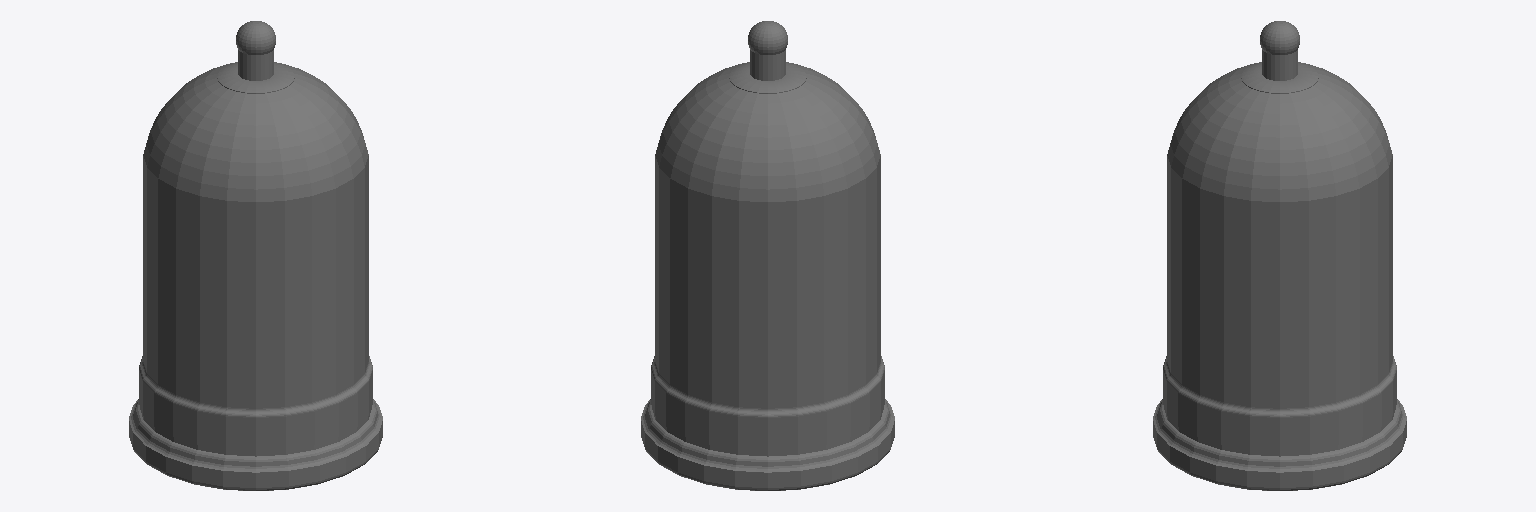
URDF robot description (object):
<?xml version="1.0"?>
<robot name="object">
  <link name="object">
    <visual>
      <origin xyz="0 0 0"/>
      <geometry>
        <mesh
          filename="../../mesh/oakink_virtual/cylinder_bottle_s598.stl" />
      </geometry>
      <material name="mat">
        <color rgba="0.5 0.5 0.5 1"/>
      </material>
    </visual>

    <collision>
      <origin xyz="0 0 0"/>
      <geometry>
        <mesh
          filename="../../mesh/oakink_virtual/cylinder_bottle_s598.stl" />
      </geometry>
    </collision>
  </link>
</robot>

--- Render facts (derived) ---
3 views of the same robot in one strip: view 1: azimuth 30°, elevation 25°; view 2: azimuth 150°, elevation 25°; view 3: azimuth 270°, elevation 25° (orthographic).
Model object with 1 links and 0 joints (none), rooted at object, posed all joints at 0.
Links seen in each view (by area): view 1: object; view 2: object; view 3: object.
Link boxes in pixels (bbox=[...]): object: bbox=[129, 21, 382, 490]; object: bbox=[641, 21, 894, 490]; object: bbox=[1153, 21, 1406, 490].
Bounding box of the posed robot: 0.1265 × 0.1265 × 0.2292 m (x, y, z).
Meshes: 1 distinct files referenced, 1 mesh visuals loaded (1 binary STL).